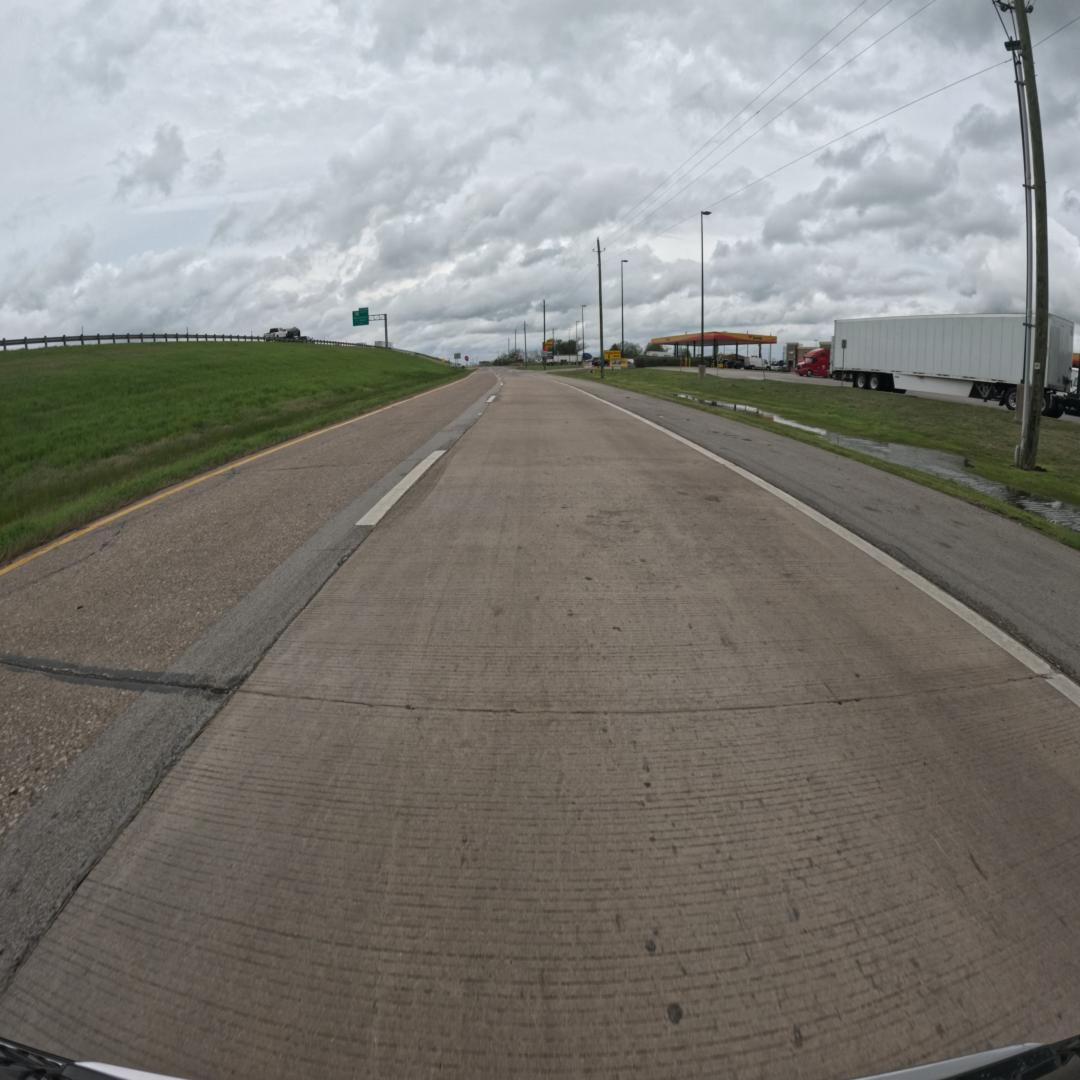lane0: (0, 373, 1080, 1076)
lane1: (0, 373, 499, 994)
